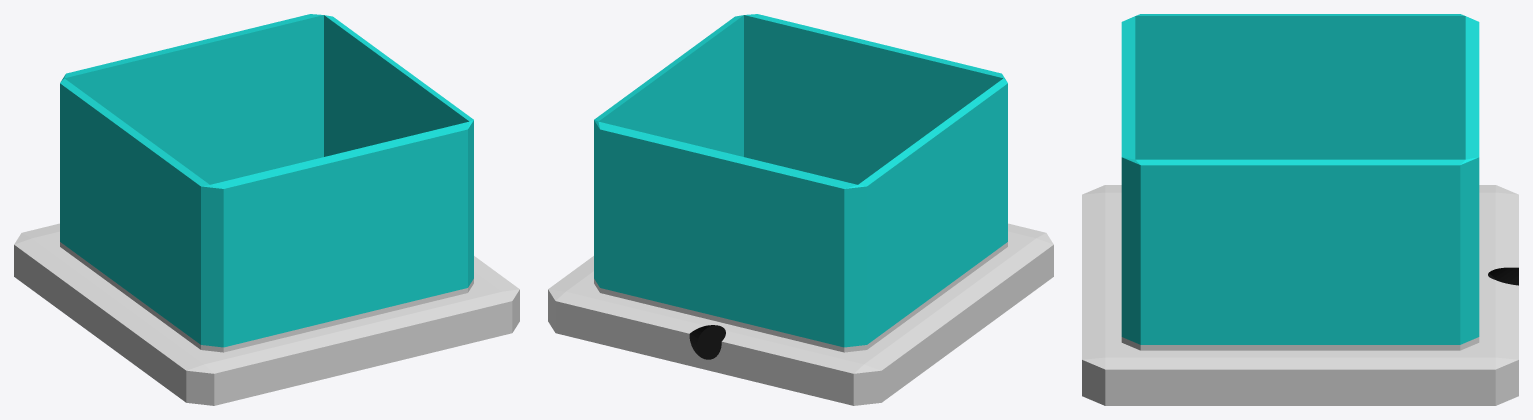
Rendered from Container.fbx.
3 views of the same model, side by side, from view 1: azimuth 30°, elevation 25°; view 2: azimuth 150°, elevation 25°; view 3: azimuth 270°, elevation 25° (orthographic). The views are drawn at different scales.
Parts seen in each view (by area): view 1: Cube.001, Cube; view 2: Cube.001, Cube; view 3: Cube.001, Cube.
Boxes of the visible parts, x1,y1,x2,y2 form: Cube.001: [60, 14, 473, 352]; Cube: [14, 223, 519, 405]; Cube.001: [594, 14, 1007, 352]; Cube: [548, 223, 1053, 405]; Cube.001: [1121, 14, 1479, 350]; Cube: [1082, 185, 1518, 405].
Size of the model in its own units: 1701 by 979 by 1701.
